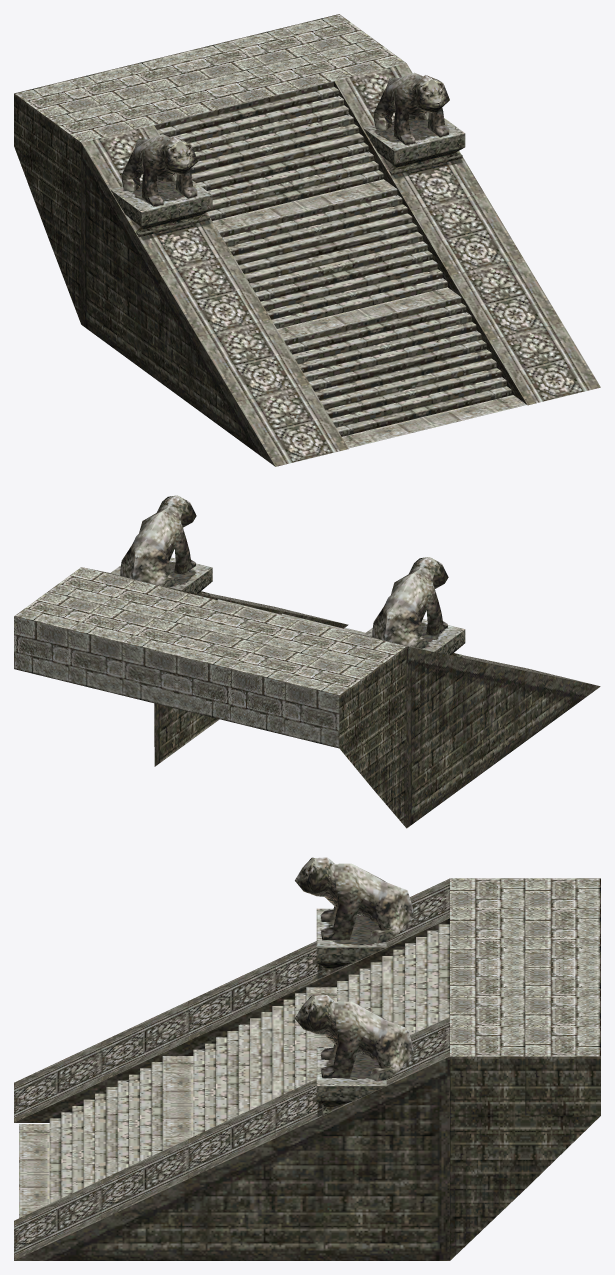
File: b1s-002-inwall-02.glb
3 views of the same model, one above another, from view 1: azimuth 30°, elevation 25°; view 2: azimuth 150°, elevation 25°; view 3: azimuth 270°, elevation 25° (orthographic). The views are drawn at different scales.
Visible parts, largest first — view 1: b1s-002-inwall-02; view 2: b1s-002-inwall-02; view 3: b1s-002-inwall-02.
Part boxes in pixels (bbox=[...]): b1s-002-inwall-02: bbox=[14, 14, 600, 466]; b1s-002-inwall-02: bbox=[14, 495, 600, 828]; b1s-002-inwall-02: bbox=[14, 857, 600, 1260].
Bounding box in the file's own units: 11.38 × 7.39 × 15.85.
1 material, 1 textured.
